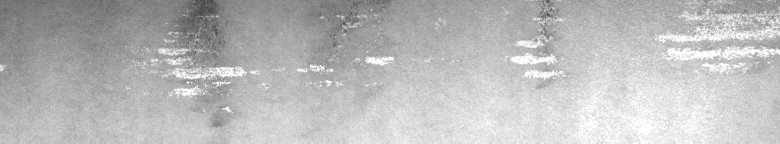hc: (505, 4, 566, 88)
